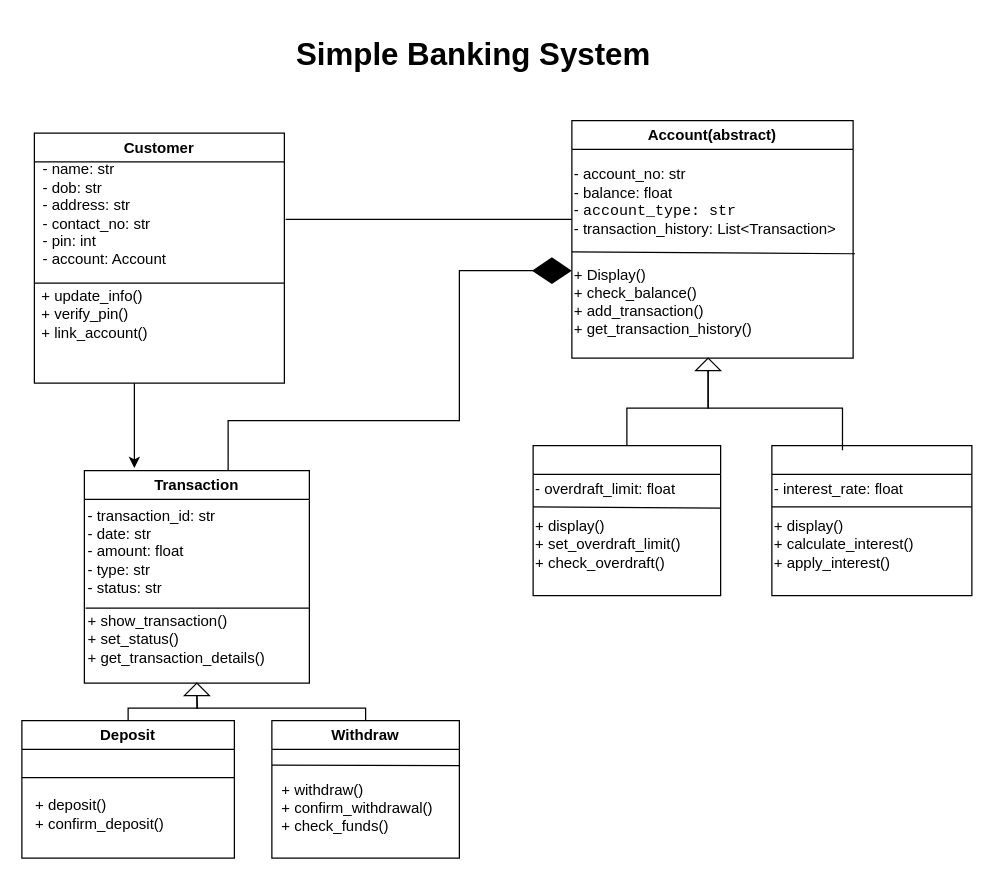
The diagram is 995 pixels wide and 880 high, and some of its shapes have lost their labels. Here are the shapes that lost their labels. From the top down, the box of each, then its label:
(532, 444, 721, 596): Current
(771, 444, 972, 596): Saving
